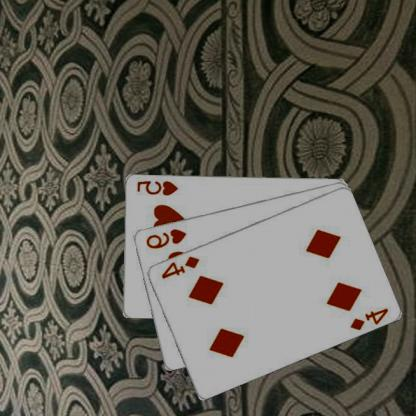4D: (160, 252, 202, 280), (349, 305, 391, 332)
5H: (136, 178, 180, 196)
9H: (144, 225, 189, 250)
